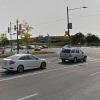Car: (3, 47, 50, 77)
